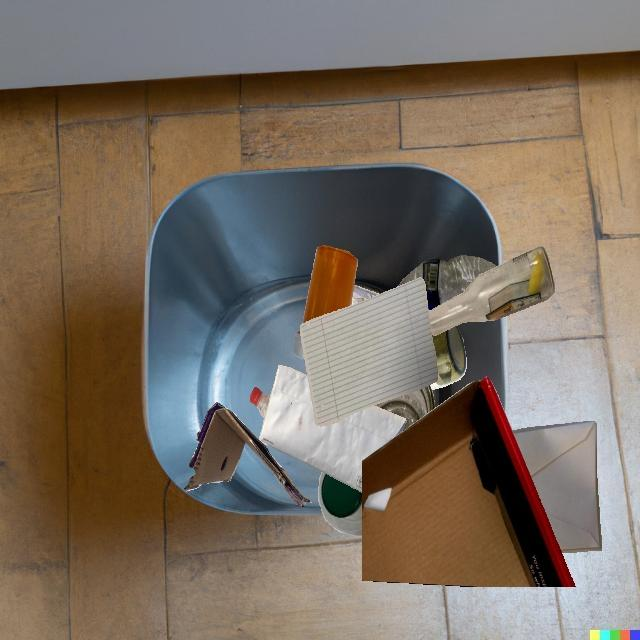cardboard: (362, 376, 575, 587), (184, 402, 313, 507)
glass: (428, 246, 554, 335), (374, 384, 435, 431), (430, 325, 466, 390)
paper: (300, 277, 438, 426), (259, 365, 407, 492), (512, 421, 602, 553), (351, 285, 379, 306)
plastic: (397, 255, 496, 311), (302, 245, 358, 324), (318, 472, 362, 537), (250, 387, 270, 418)
